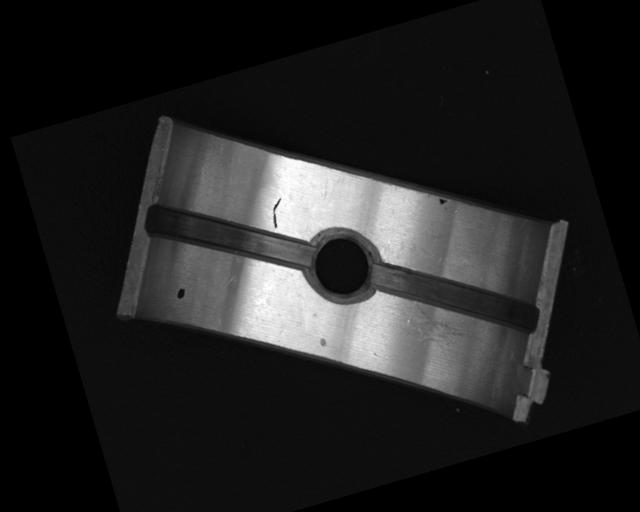blot: (173, 285, 187, 301), (436, 195, 448, 206)
bruise: (317, 334, 328, 348)
gap: (367, 224, 541, 371), (147, 169, 314, 307)
hole: (299, 219, 386, 309)
nick: (265, 197, 288, 230)
scratch: (401, 285, 485, 362)
